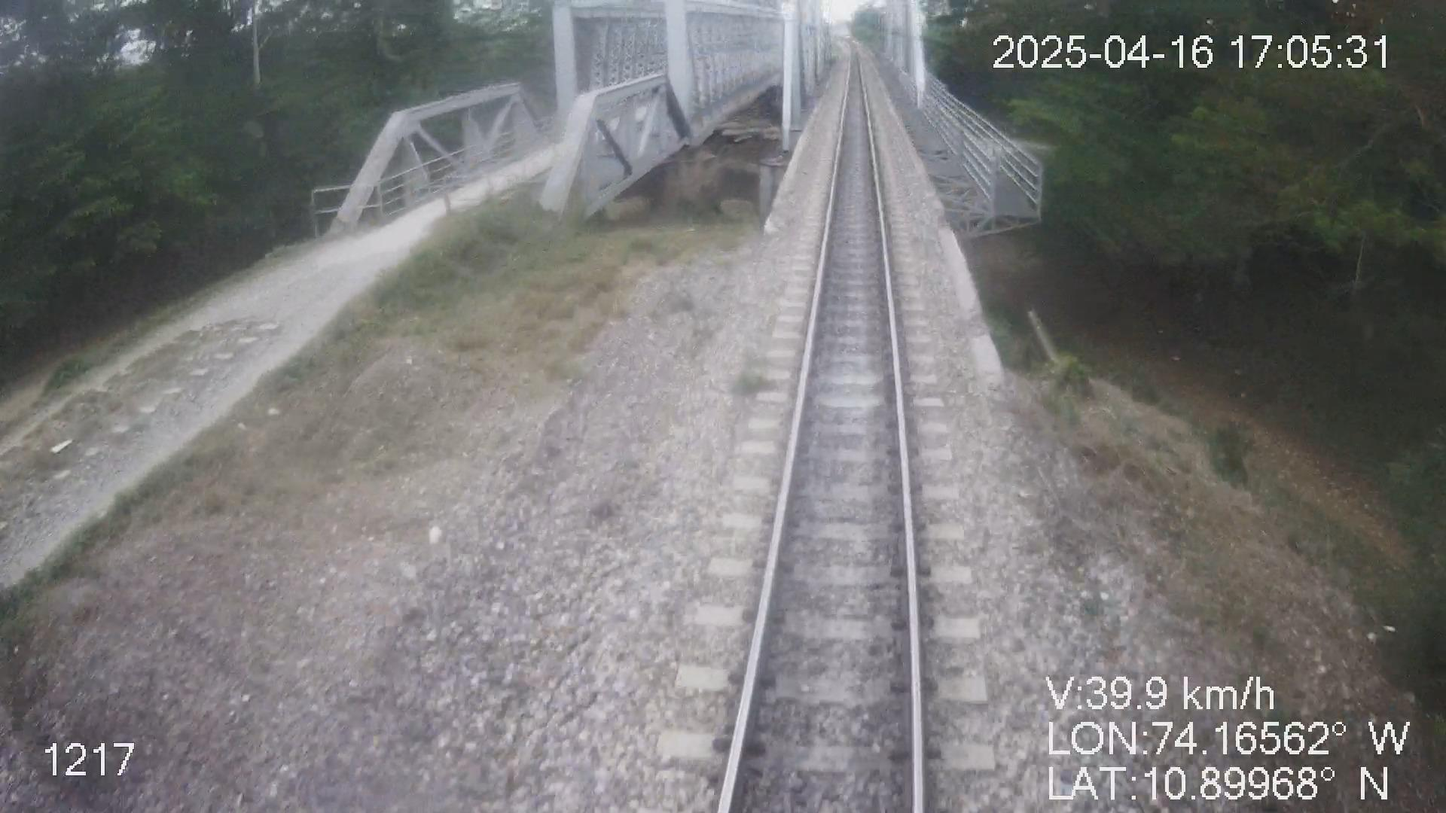Pasto: (925, 0, 1445, 503), (0, 0, 547, 374)
